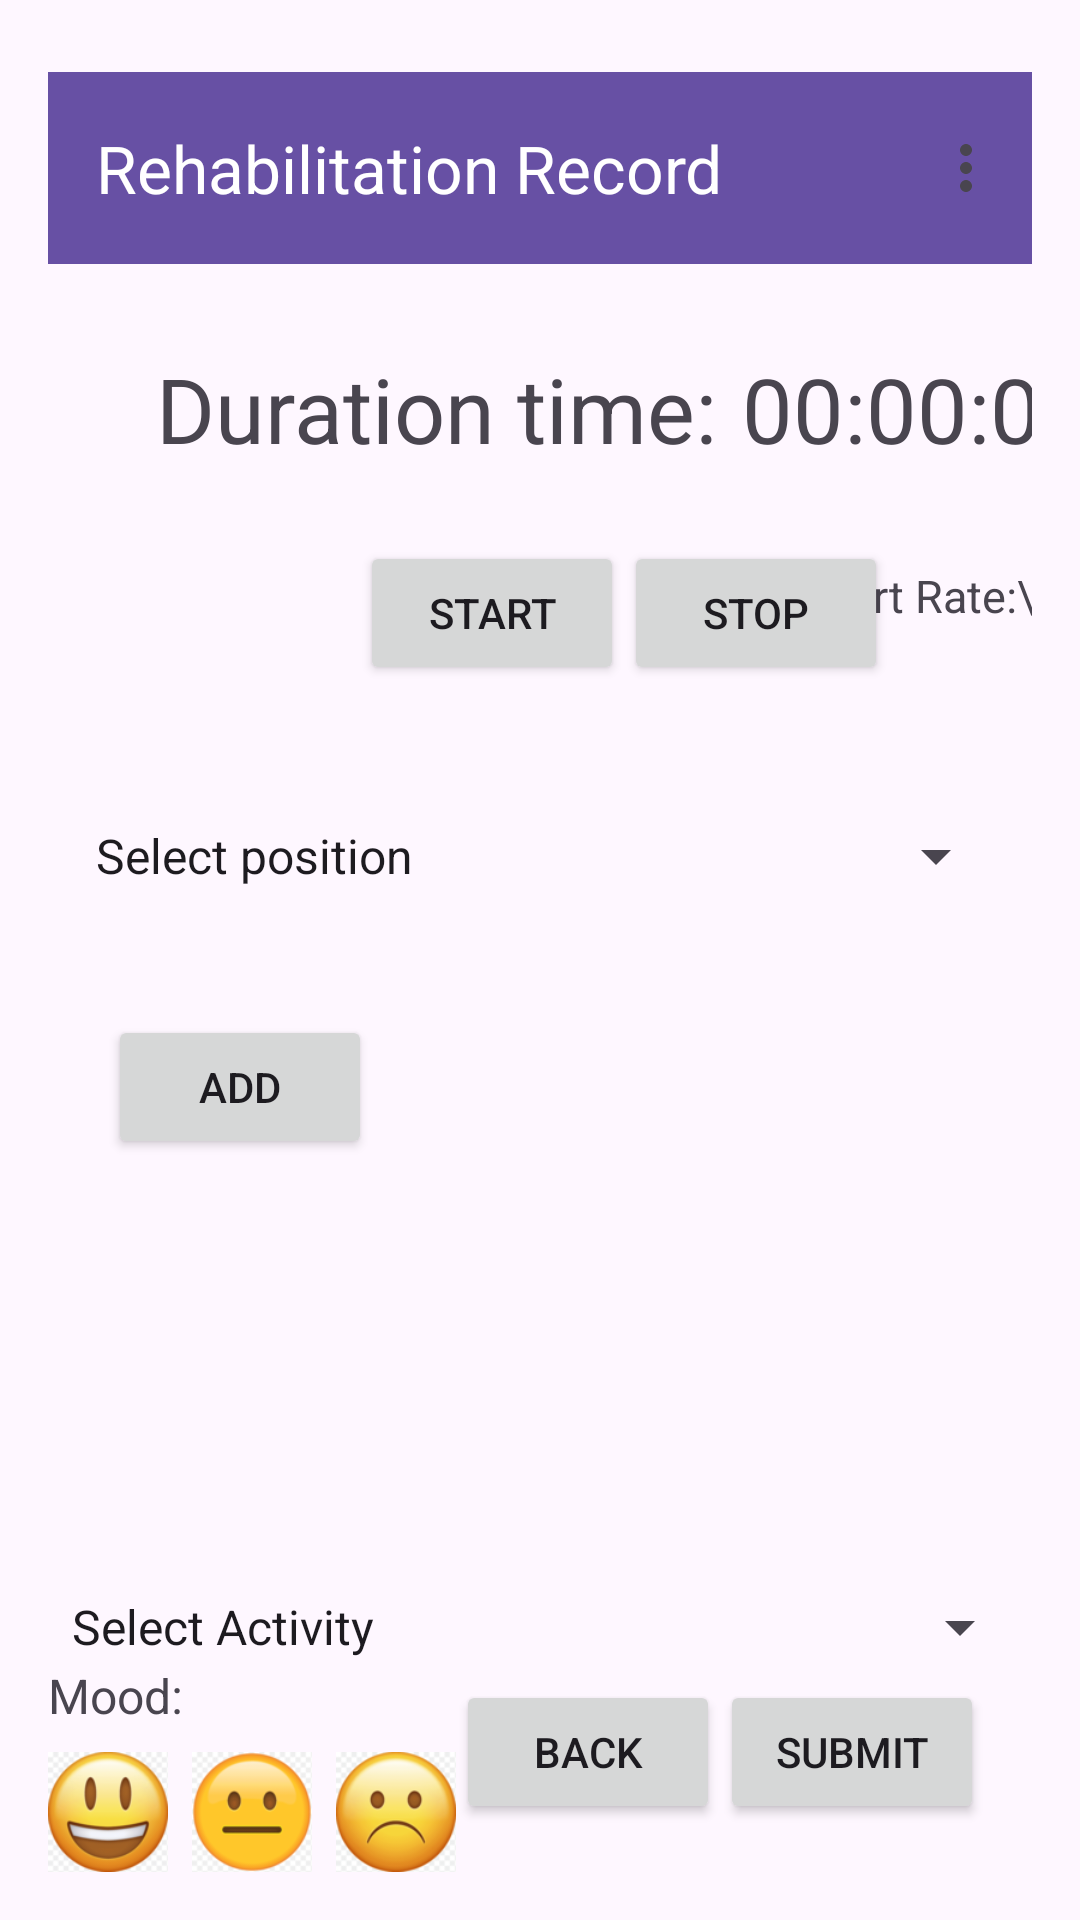

Named icons in this screenshot (1080 x 1920) and their centers, [x,y]:
bad: [396,1812]
happy: [108,1812]
neutral: [252,1812]
